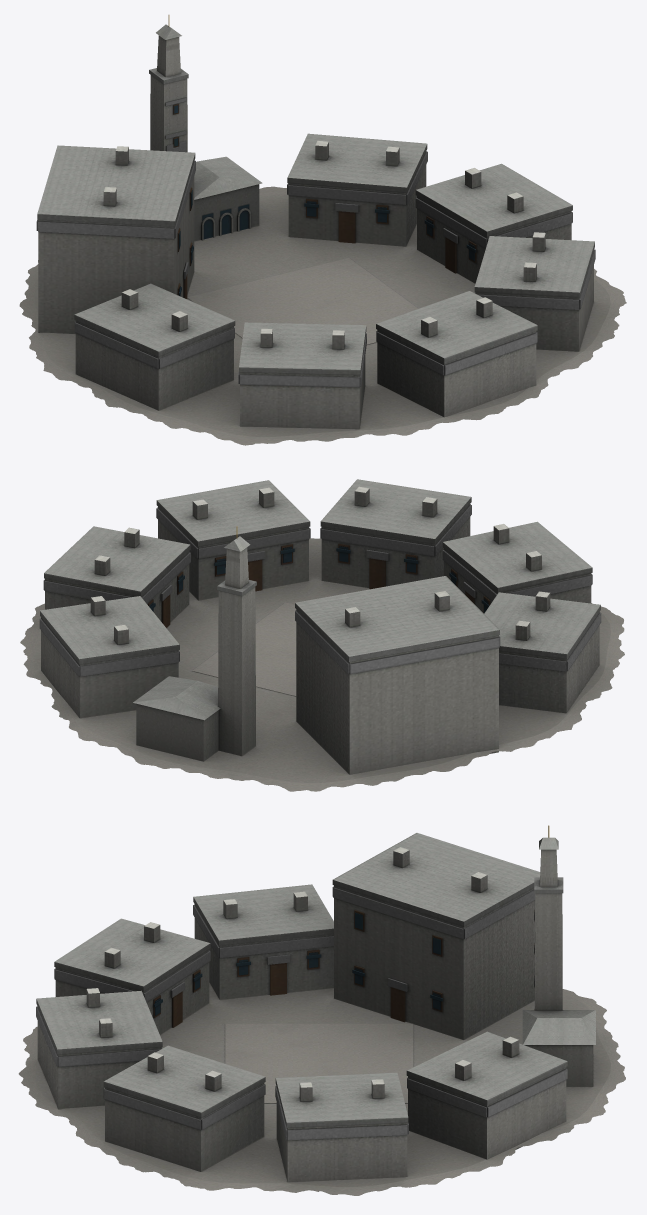
The model's file is modern-town-small-a-maghreb.glb.
3 renders of one model, top to bottom at view 1: azimuth 30°, elevation 25°; view 2: azimuth 150°, elevation 25°; view 3: azimuth 270°, elevation 25°, orthographic.
Visible parts, largest first — view 1: LOD0; view 2: LOD0; view 3: LOD0.
Part boxes in pixels (x1,y1,x2,y2): LOD0: (19, 15, 626, 445); LOD0: (20, 479, 624, 791); LOD0: (18, 825, 625, 1195).
Size of what is drawn, in the model's own units: 3.97 by 1.6 by 3.95.
Materials: 3 (3 with a texture image).
